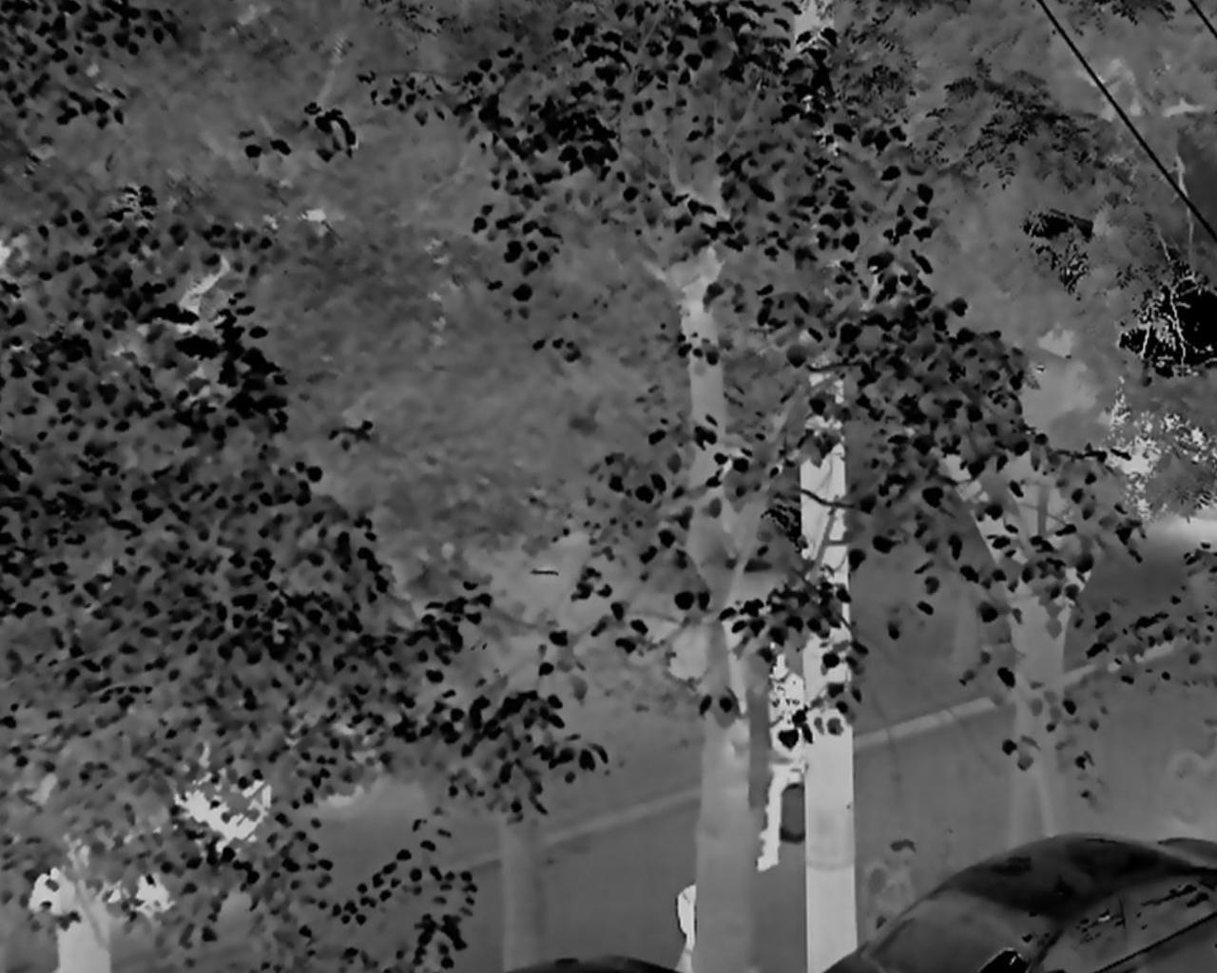person: (757, 638, 813, 875)
